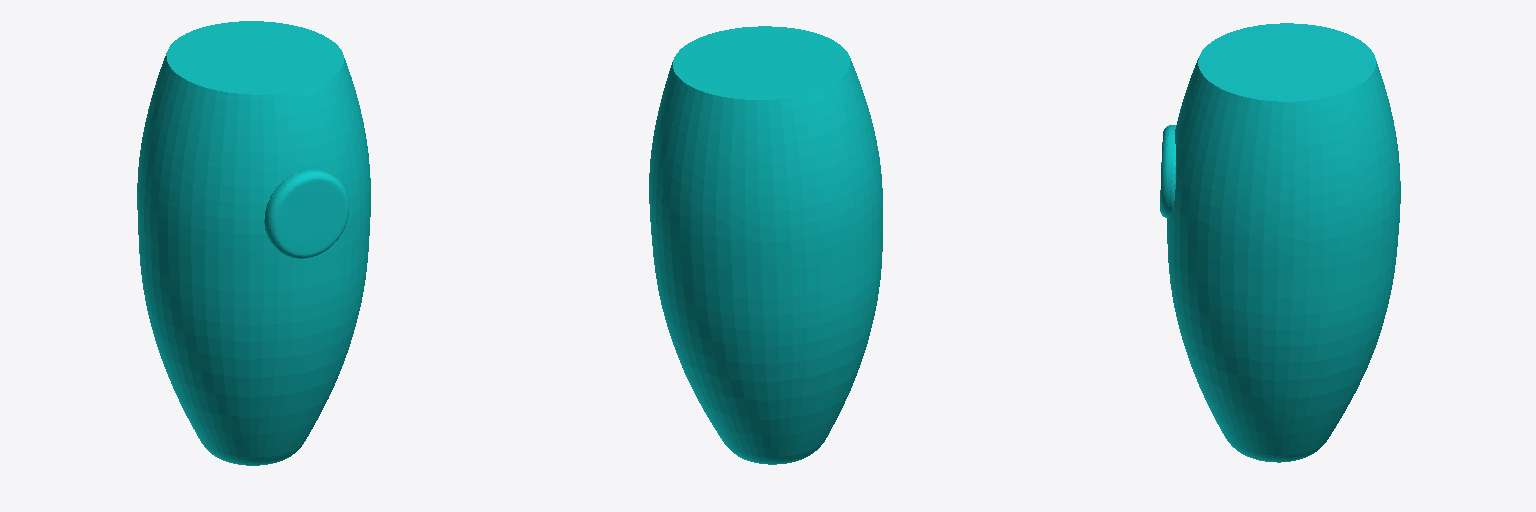
The model's file is rocketBody.obj.
3 renders of one model, left to right at view 1: azimuth 30°, elevation 25°; view 2: azimuth 150°, elevation 25°; view 3: azimuth 270°, elevation 25°, orthographic.
Parts seen in each view (by area): view 1: body_Rocket_CUBezierCurve.003; view 2: body_Rocket_CUBezierCurve.003; view 3: body_Rocket_CUBezierCurve.003.
Part boxes in pixels (left/top/right/bottom): body_Rocket_CUBezierCurve.003: left=137, top=21, right=370, bottom=465; body_Rocket_CUBezierCurve.003: left=649, top=26, right=882, bottom=464; body_Rocket_CUBezierCurve.003: left=1160, top=23, right=1400, bottom=462.
Size of the model in its own units: 0.8785 by 1.63 by 0.9075.